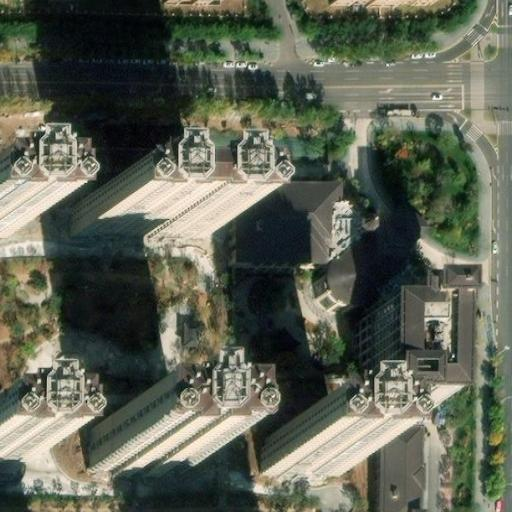building: (237, 181, 426, 305), (362, 278, 438, 393), (66, 186, 203, 239), (93, 400, 195, 466), (263, 416, 344, 472), (380, 421, 424, 512), (439, 262, 479, 286), (0, 419, 16, 472)
